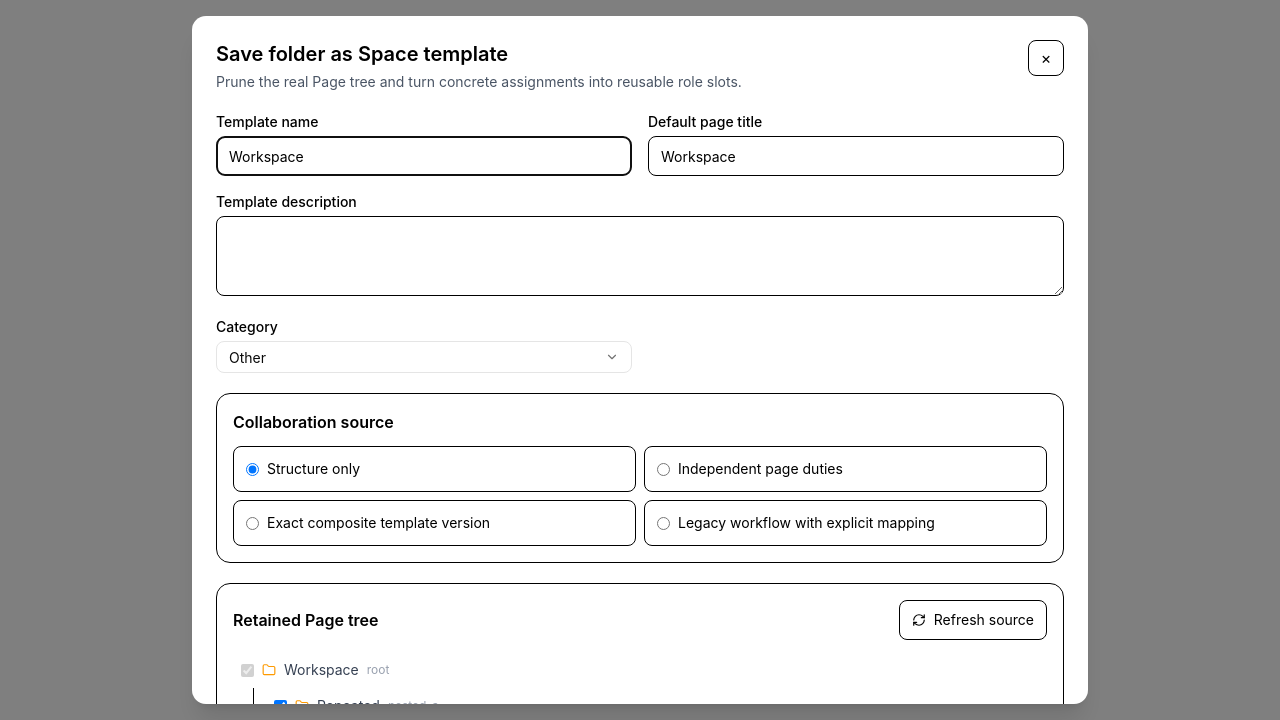
Test case: SaveFolderAsTemplateDialog › resolves an exact composite source from the selected Folder instead of asking for internal IDs
Click the radio button labelled "Exact composite template version". click: (252, 523)
box: [246,516,259,530]
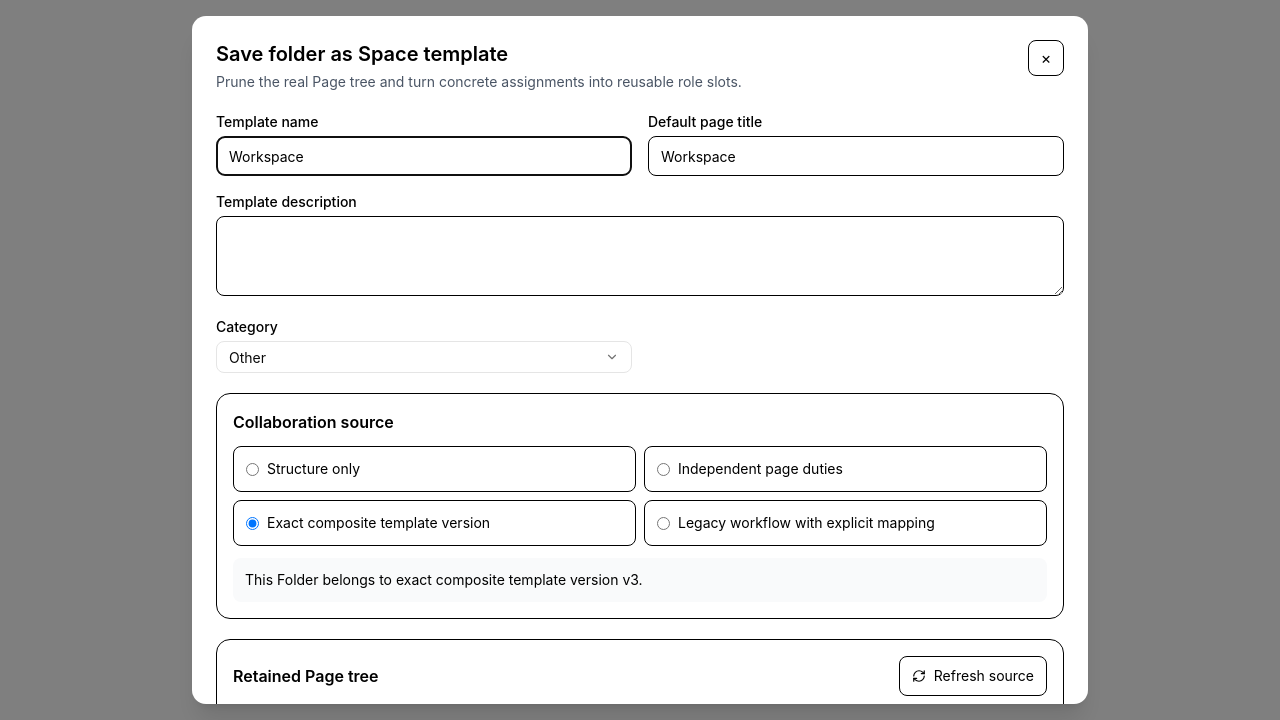
Now the text "This Folder belongs to exact composite template version v3." is shown, box [245,571,643,588]
